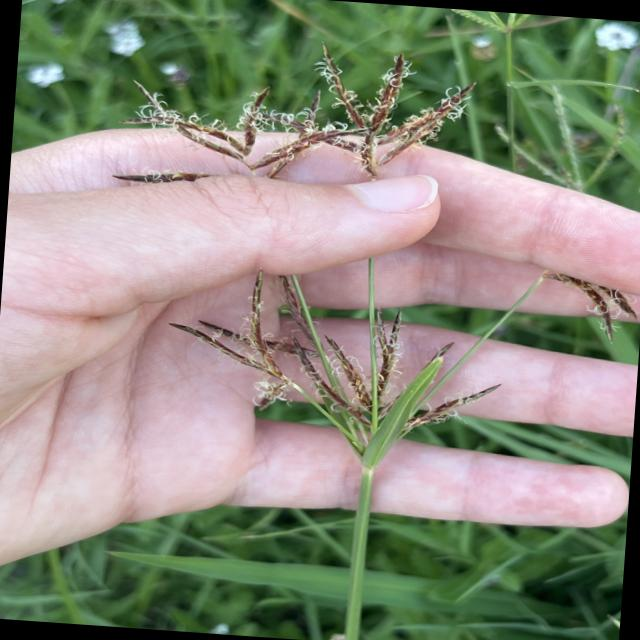cyperus: (86, 23, 640, 519)
